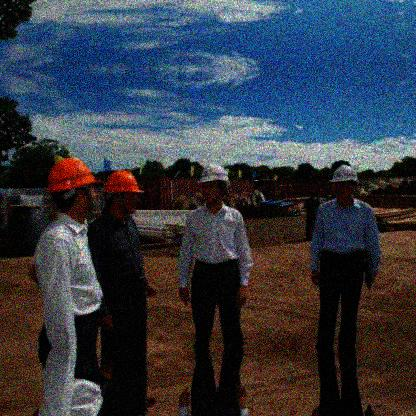helmet: (47, 160, 102, 217), (101, 172, 147, 213), (198, 162, 230, 202), (328, 165, 360, 199)
